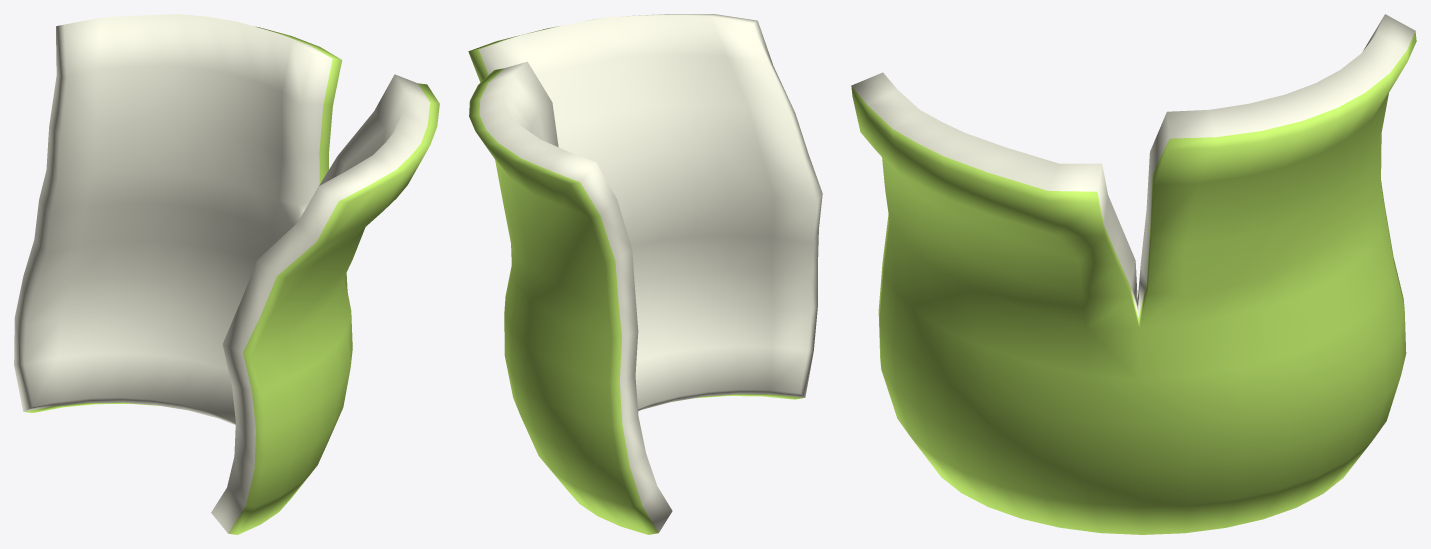
The model's file is yozi_peel.fbx.
The picture shows the model from 3 angles, left to right: view 1: azimuth 30°, elevation 25°; view 2: azimuth 150°, elevation 25°; view 3: azimuth 270°, elevation 25°; orthographic projection. The views are drawn at different scales.
Visible parts, largest first — view 1: Sphere; view 2: Sphere; view 3: Sphere.
Boxes of the visible parts, box(x1,y1,x2,y2) form: Sphere: box(14, 14, 439, 534); Sphere: box(468, 14, 822, 534); Sphere: box(851, 14, 1416, 534).
Size of the model in its own units: 139 by 165 by 186.
